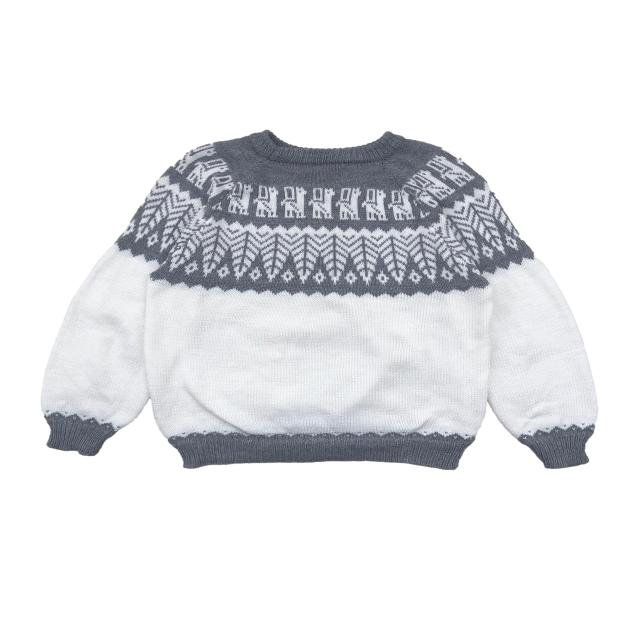Chompa: (40, 129, 599, 471)
